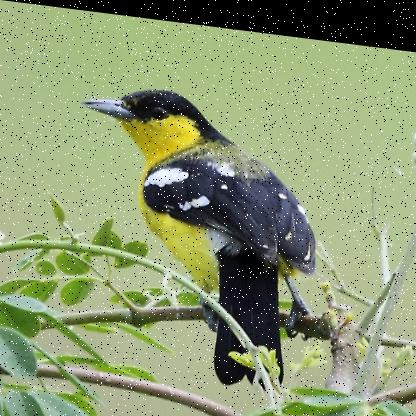Burung: (80, 77, 314, 387)
